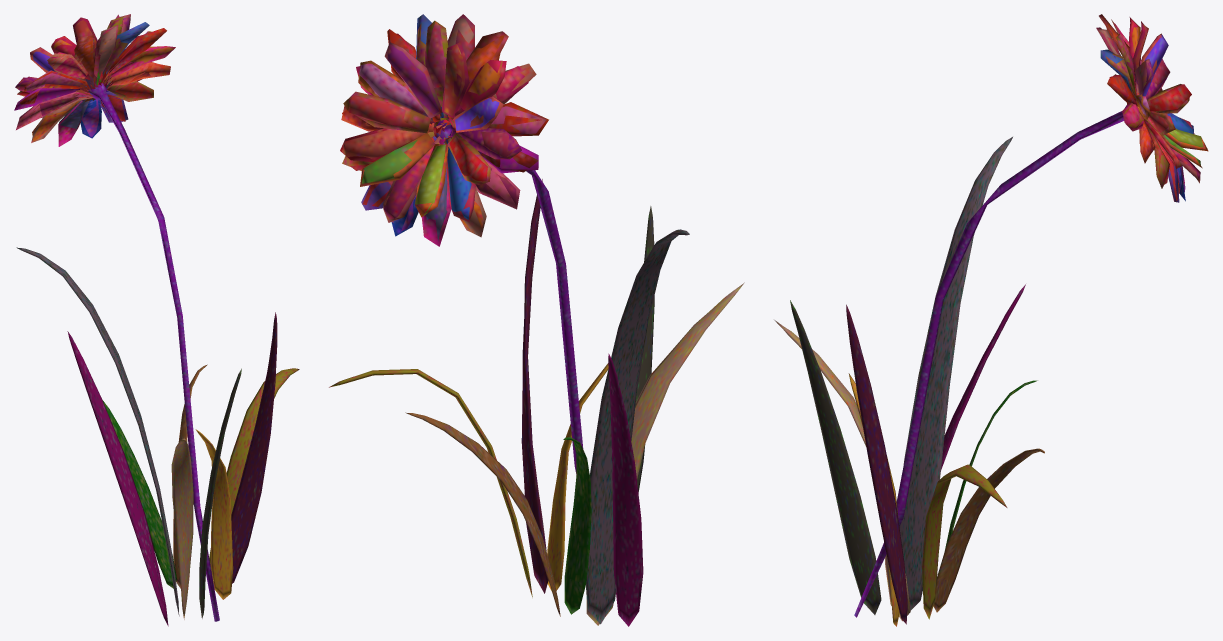
File: Dropturd2.fbx
The picture shows the model from 3 angles, left to right: view 1: azimuth 30°, elevation 25°; view 2: azimuth 150°, elevation 25°; view 3: azimuth 270°, elevation 25°; orthographic projection. The views are drawn at different scales.
Visible parts, largest first — view 1: Flower on the Ground; view 2: Flower on the Ground; view 3: Flower on the Ground.
Part boxes in pixels (bbox=[...]): Flower on the Ground: bbox=[14, 14, 299, 626]; Flower on the Ground: bbox=[329, 14, 744, 626]; Flower on the Ground: bbox=[774, 14, 1208, 626].
Size of the model in its own units: 21.56 by 38.75 by 25.31.
